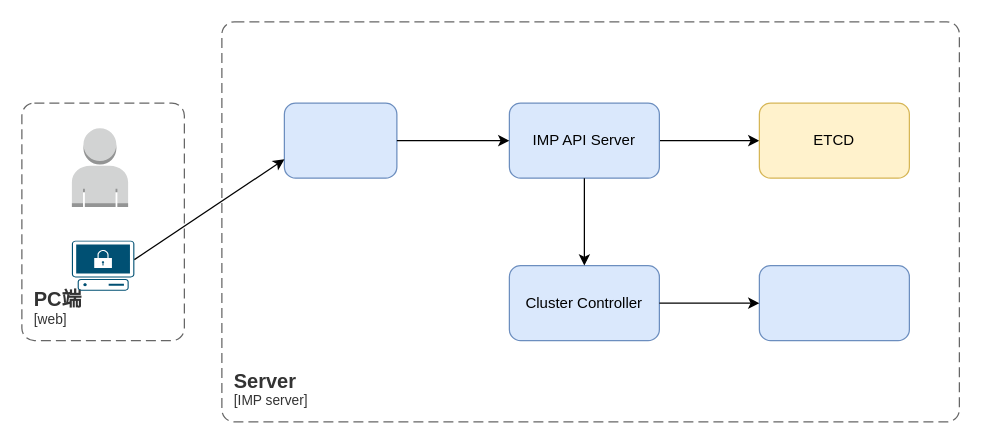
The diagram is 981 pixels wide and 444 high, and some of its shapes have lost their labels. Here are the shapes that lost their labels. From the top down, the centre of each, then its label:
(x=340, y=140): Authentication Proxy
(x=833, y=302): Cluster
